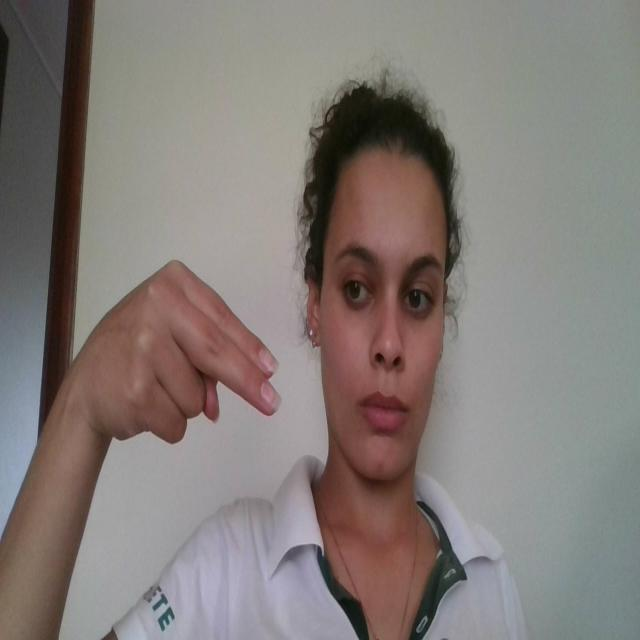N: (68, 251, 285, 453)
